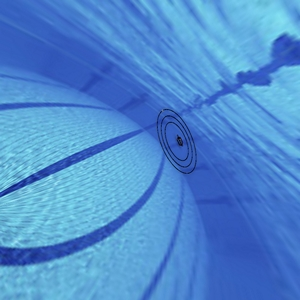circle: (149, 98, 208, 187)
submarine: (174, 132, 185, 152)
